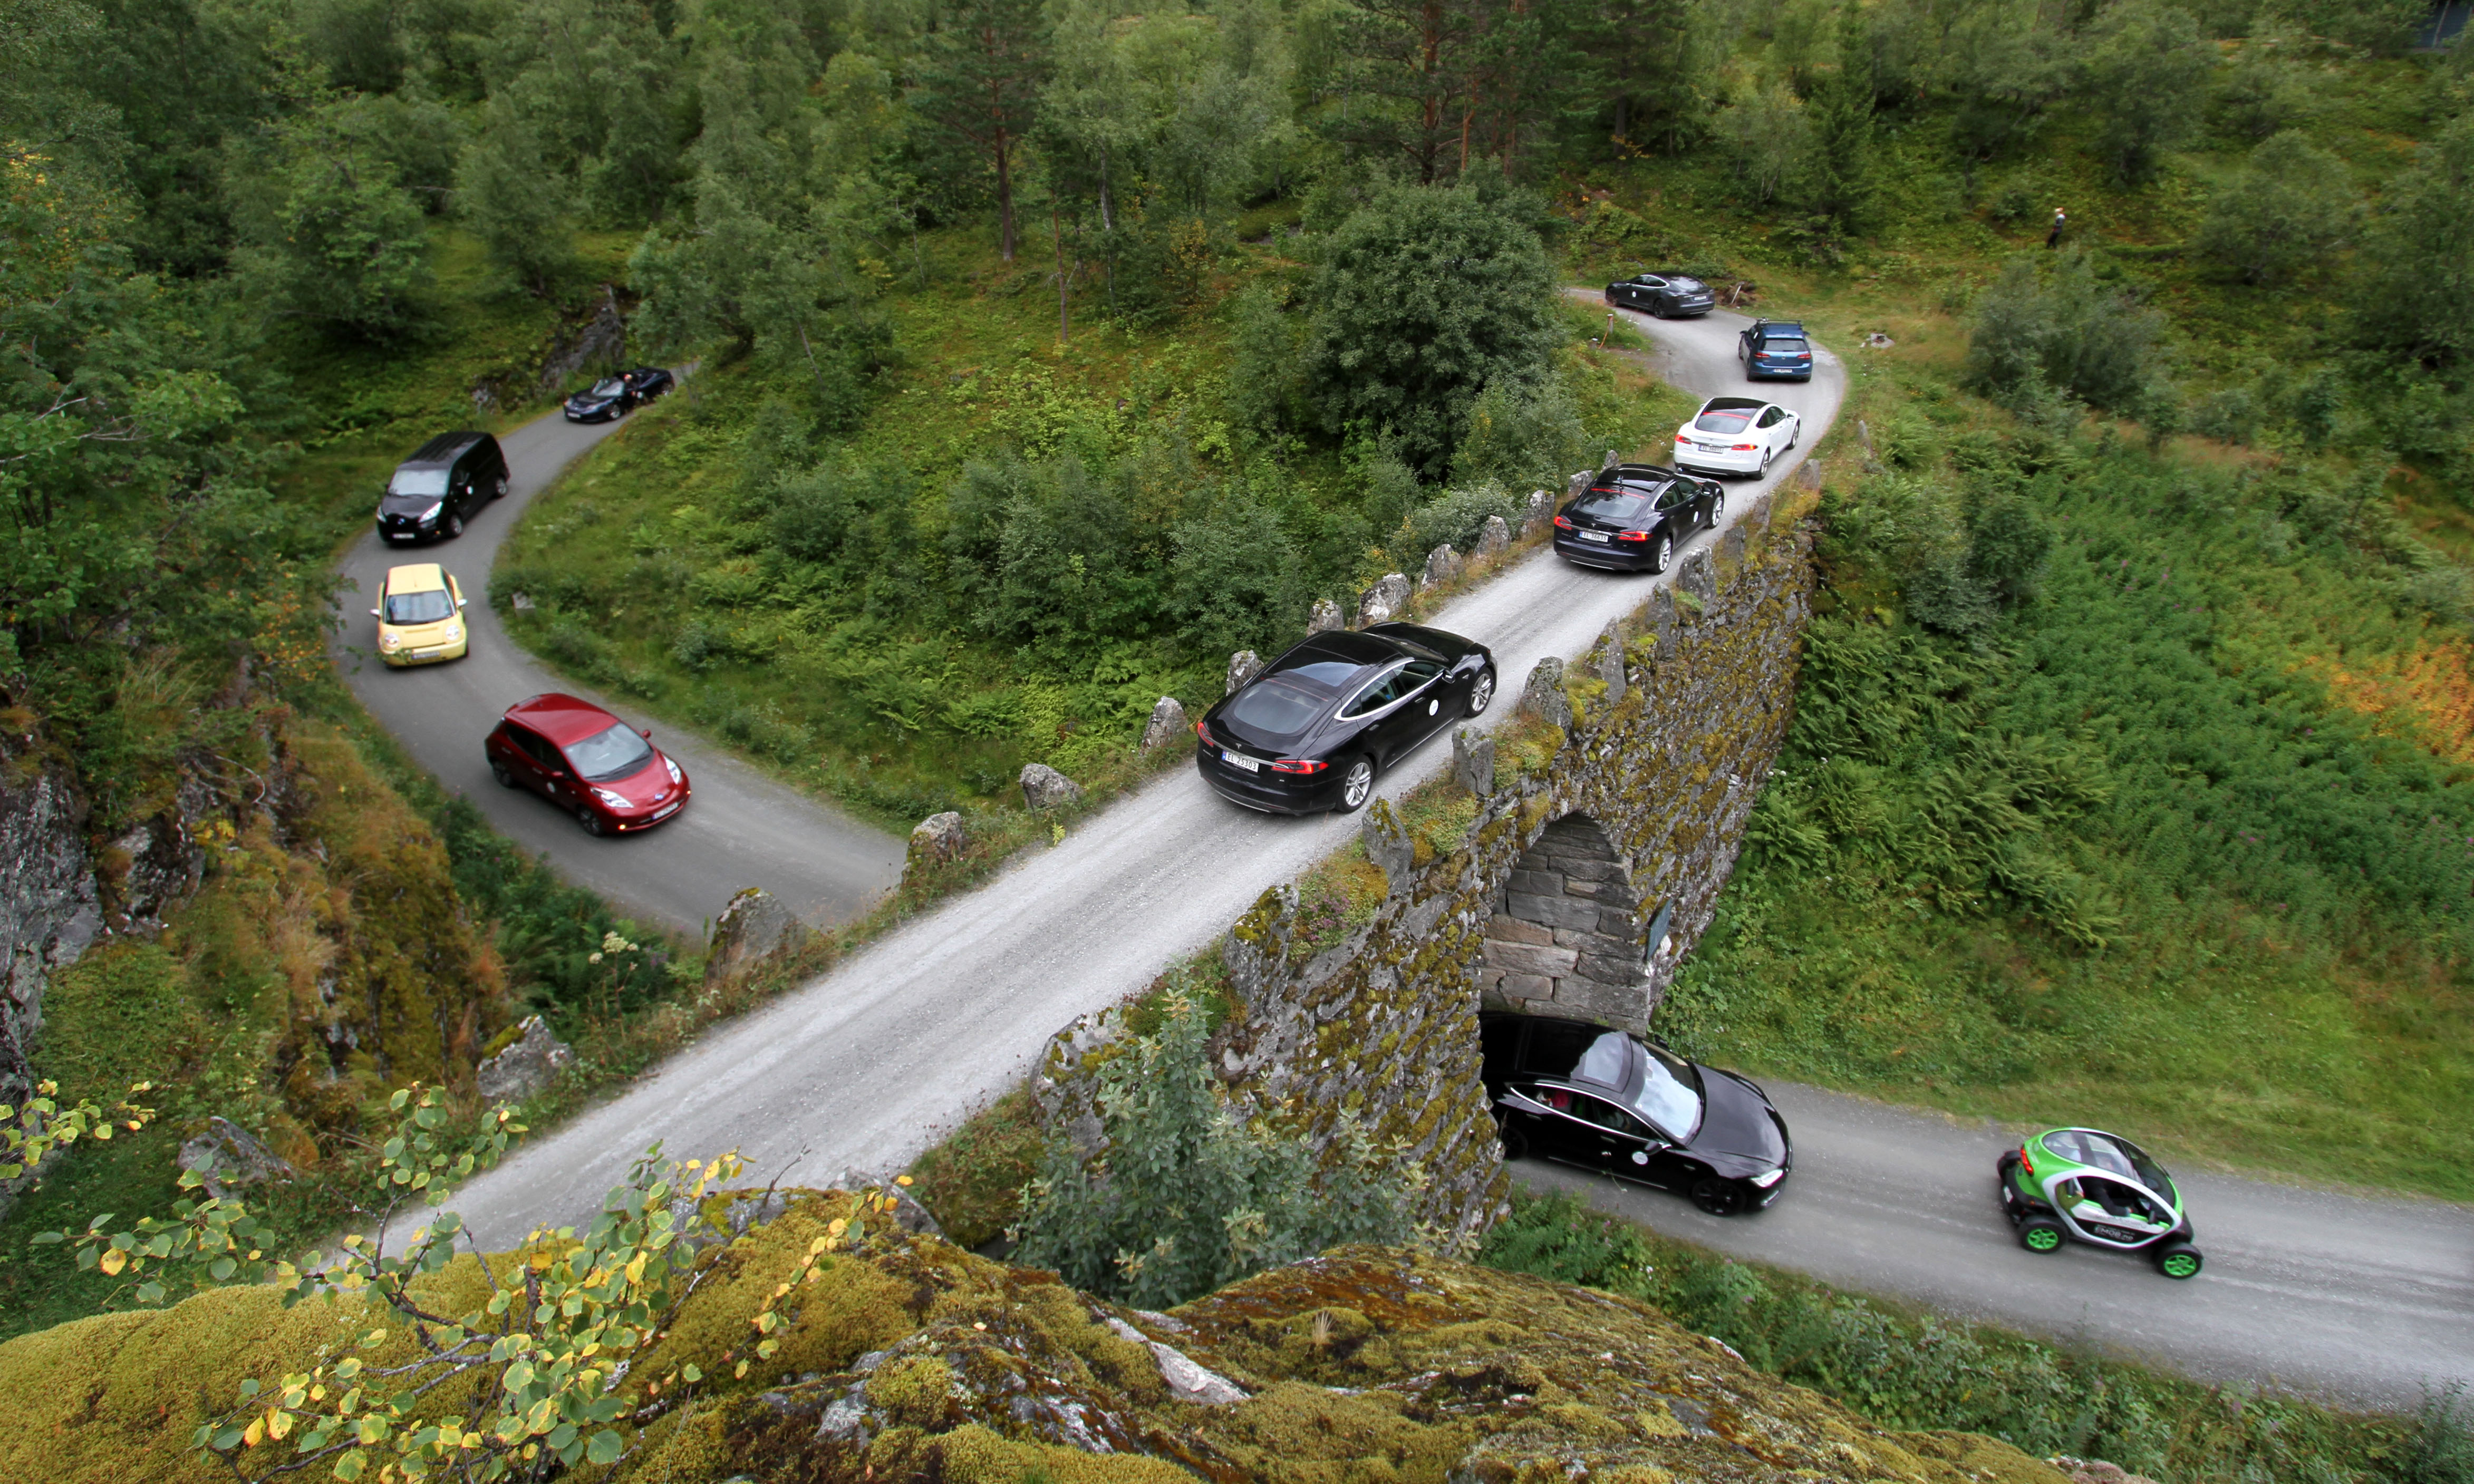car: (1454, 949, 1799, 1249), (1129, 608, 1539, 818), (1965, 1087, 2235, 1318), (465, 673, 707, 896), (1539, 454, 1730, 604), (343, 401, 512, 560), (325, 564, 505, 693), (1672, 380, 1802, 486), (546, 339, 666, 442), (1583, 263, 1758, 325), (1721, 316, 1824, 380)
